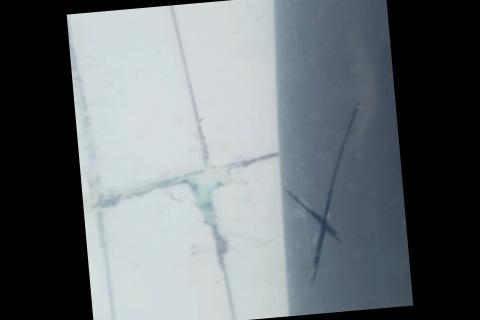keretakan: (275, 99, 381, 288)
